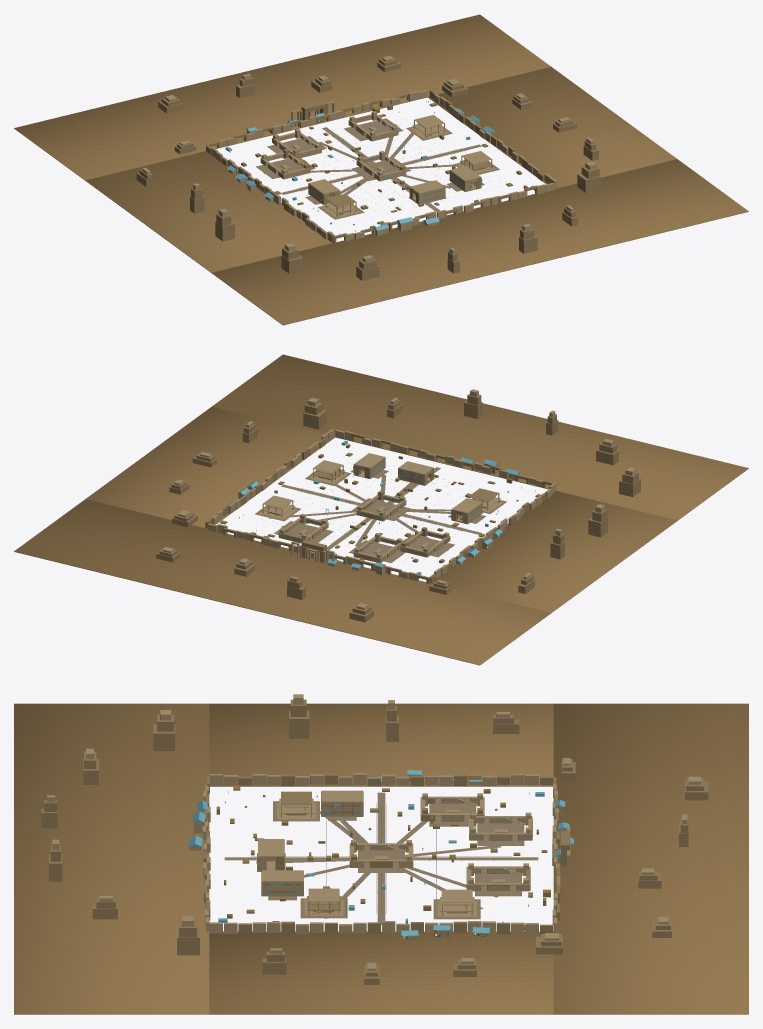
Rendered from kairou-lod1.glb.
3 renders of one model, top to bottom at view 1: azimuth 30°, elevation 25°; view 2: azimuth 150°, elevation 25°; view 3: azimuth 270°, elevation 25°, orthographic. The views are drawn at different scales.
Visible parts, largest first — view 1: HB_kairou_LOD1_terrain, HB_kairou_LOD1_wall, HB_kairou_LOD1_wall_alt, HB_kairou_LOD1_road, HB_kairou_LOD1_accent, HB_kairou_LOD1_obstacle; view 2: HB_kairou_LOD1_terrain, HB_kairou_LOD1_wall, HB_kairou_LOD1_wall_alt, HB_kairou_LOD1_road, HB_kairou_LOD1_accent, HB_kairou_LOD1_obstacle; view 3: HB_kairou_LOD1_terrain, HB_kairou_LOD1_wall, HB_kairou_LOD1_wall_alt, HB_kairou_LOD1_road, HB_kairou_LOD1_accent, HB_kairou_LOD1_obstacle, HB_kairou_LOD1_trim.
Part boxes in pixels (x1,y1,x2,y2): HB_kairou_LOD1_terrain: [14, 14, 748, 325]; HB_kairou_LOD1_wall: [142, 55, 596, 262]; HB_kairou_LOD1_wall_alt: [136, 56, 600, 280]; HB_kairou_LOD1_road: [257, 119, 499, 219]; HB_kairou_LOD1_accent: [225, 108, 534, 230]; HB_kairou_LOD1_obstacle: [241, 103, 527, 233]; HB_kairou_LOD1_terrain: [14, 354, 748, 665]; HB_kairou_LOD1_wall: [162, 389, 636, 609]; HB_kairou_LOD1_wall_alt: [156, 393, 640, 622]; HB_kairou_LOD1_road: [256, 467, 505, 562]; HB_kairou_LOD1_accent: [226, 440, 521, 574]; HB_kairou_LOD1_obstacle: [220, 444, 540, 563]; HB_kairou_LOD1_terrain: [14, 703, 748, 1014]; HB_kairou_LOD1_wall: [47, 694, 700, 970]; HB_kairou_LOD1_wall_alt: [41, 699, 708, 984]; HB_kairou_LOD1_road: [224, 792, 538, 924]; HB_kairou_LOD1_accent: [188, 770, 573, 936]; HB_kairou_LOD1_obstacle: [216, 785, 550, 929]; HB_kairou_LOD1_trim: [200, 791, 558, 938].
Size of the model in its own units: 640 by 36.73 by 640.
10 materials, 8 textured.
